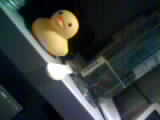duck: (31, 7, 82, 72)
